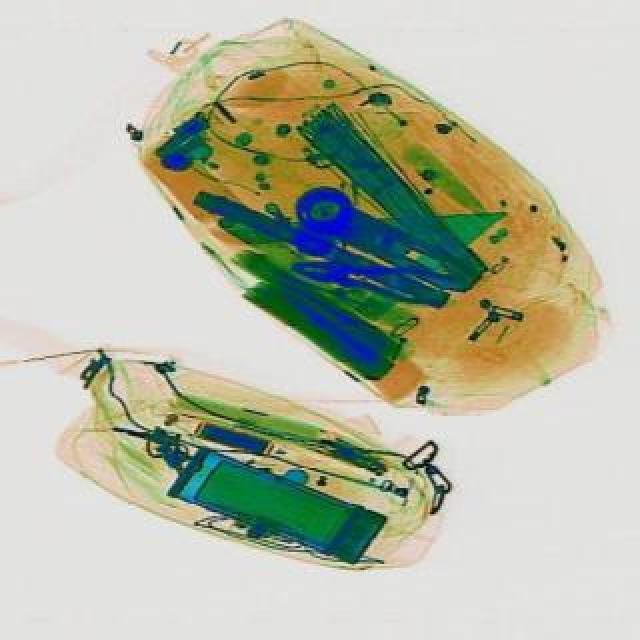wrench: (286, 244, 452, 308)
